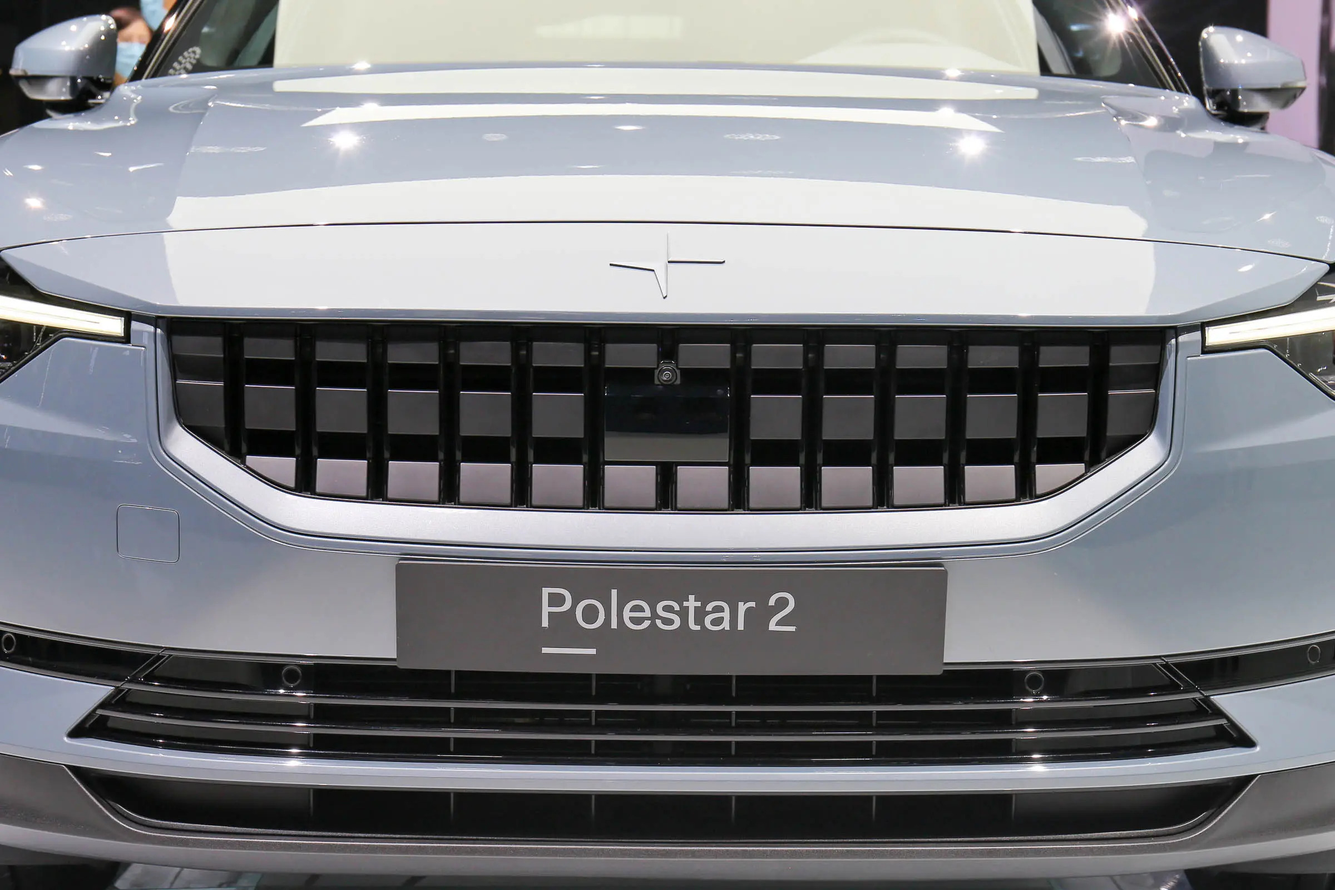Polestar: (610, 233, 724, 299)
